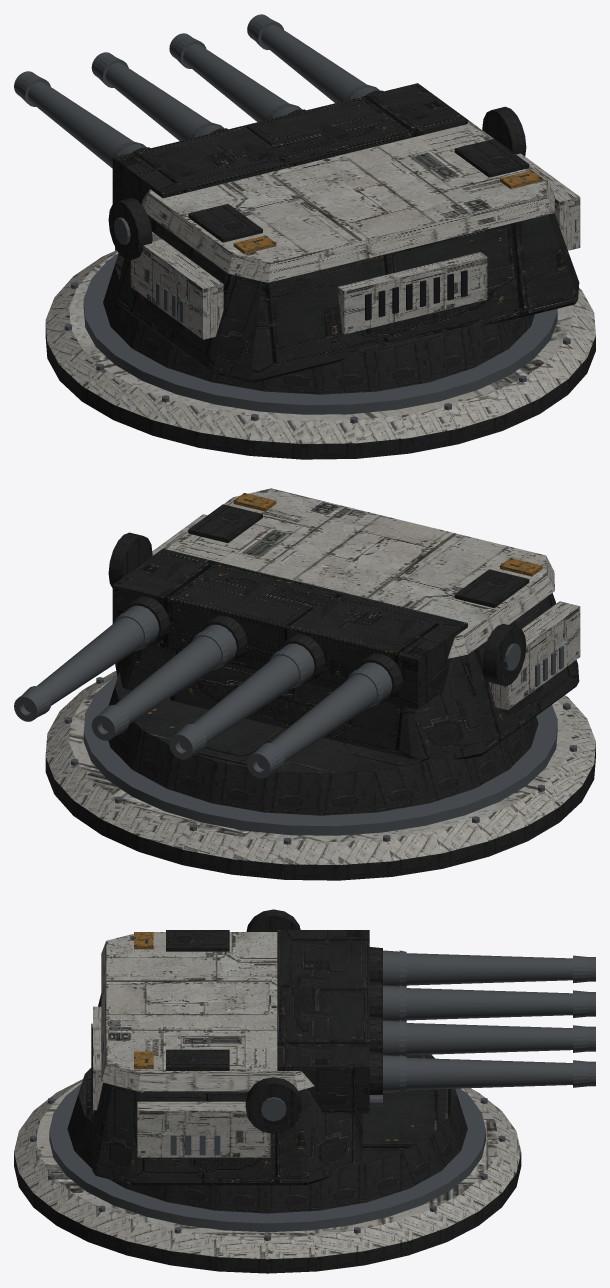
Rendered from naval-small-4.glb.
The picture shows the model from 3 angles, top to bottom: view 1: azimuth 30°, elevation 25°; view 2: azimuth 150°, elevation 25°; view 3: azimuth 270°, elevation 25°; orthographic projection. The views are drawn at different scales.
Parts seen in each view (by area): view 1: Yaw_Pivot_geometry, SMALL_NAVAL_200_4_geometry, Pitch_Pivot_geometry, Recoil_1_geometry, Recoil_3_geometry, Recoil_4_geometry, Recoil_2_geometry; view 2: Yaw_Pivot_geometry, SMALL_NAVAL_200_4_geometry, Pitch_Pivot_geometry, Recoil_3_geometry, Recoil_1_geometry, Recoil_2_geometry, Recoil_4_geometry; view 3: Yaw_Pivot_geometry, SMALL_NAVAL_200_4_geometry, Pitch_Pivot_geometry, Recoil_4_geometry, Recoil_3_geometry, Recoil_2_geometry, Recoil_1_geometry.
Boxes of the visible parts, bbox=[...] form: Yaw_Pivot_geometry: bbox=[103, 106, 580, 394]; SMALL_NAVAL_200_4_geometry: bbox=[45, 247, 595, 459]; Pitch_Pivot_geometry: bbox=[112, 83, 467, 204]; Recoil_1_geometry: bbox=[14, 71, 197, 178]; Recoil_3_geometry: bbox=[169, 33, 353, 140]; Recoil_4_geometry: bbox=[247, 14, 431, 121]; Recoil_2_geometry: bbox=[91, 52, 275, 159]; Yaw_Pivot_geometry: bbox=[108, 488, 580, 815]; SMALL_NAVAL_200_4_geometry: bbox=[45, 671, 595, 880]; Pitch_Pivot_geometry: bbox=[112, 548, 467, 709]; Recoil_3_geometry: bbox=[91, 581, 275, 740]; Recoil_1_geometry: bbox=[247, 619, 431, 778]; Recoil_2_geometry: bbox=[169, 600, 353, 759]; Recoil_4_geometry: bbox=[14, 563, 198, 721]; Yaw_Pivot_geometry: bbox=[67, 909, 467, 1213]; SMALL_NAVAL_200_4_geometry: bbox=[14, 1079, 521, 1273]; Pitch_Pivot_geometry: bbox=[277, 930, 369, 1113]; Recoil_4_geometry: bbox=[301, 1045, 595, 1105]; Recoil_3_geometry: bbox=[301, 1010, 595, 1056]; Recoil_2_geometry: bbox=[301, 975, 595, 1021]; Recoil_1_geometry: bbox=[301, 940, 595, 986].
Bounding box in the file's own units: 8.36 × 3.11 × 9.59.
Materials: 3 (1 with a texture image).
